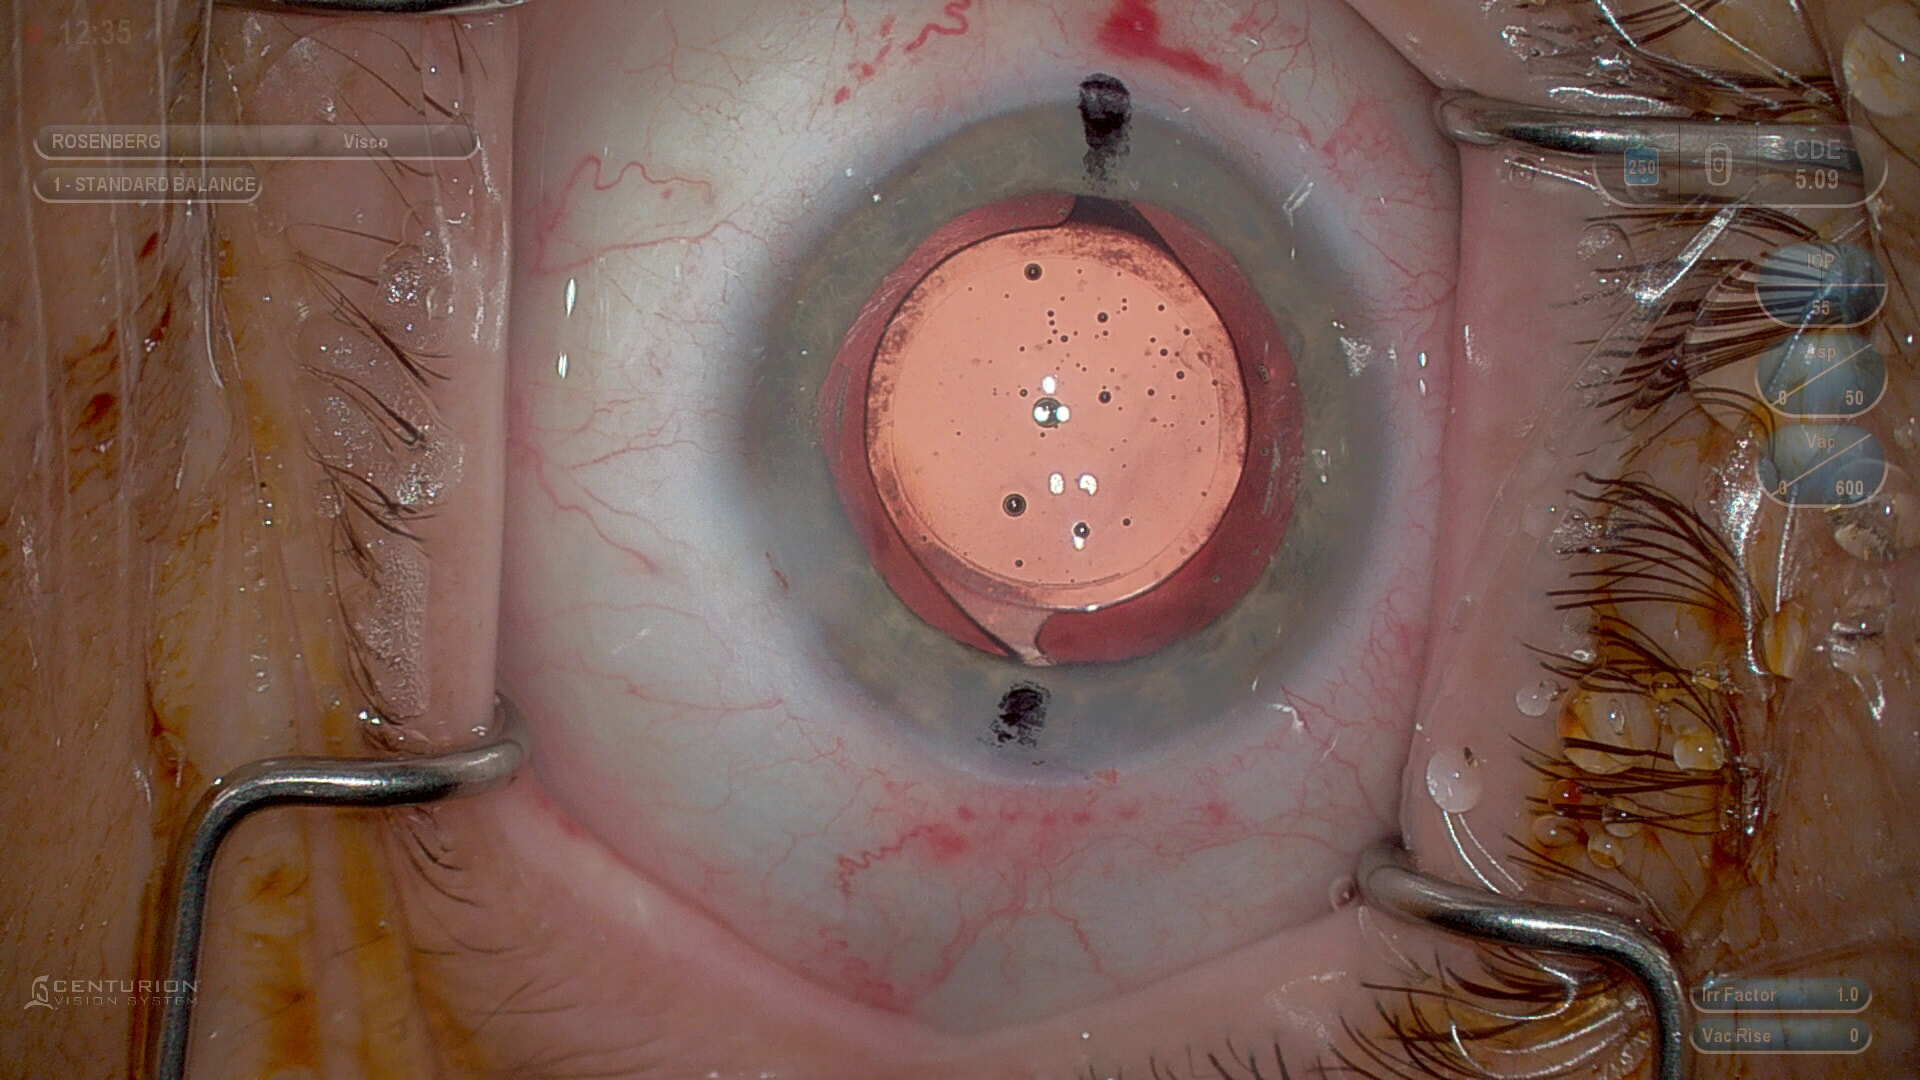iris: (759, 109, 1384, 760)
pupil: (813, 190, 1308, 667)
